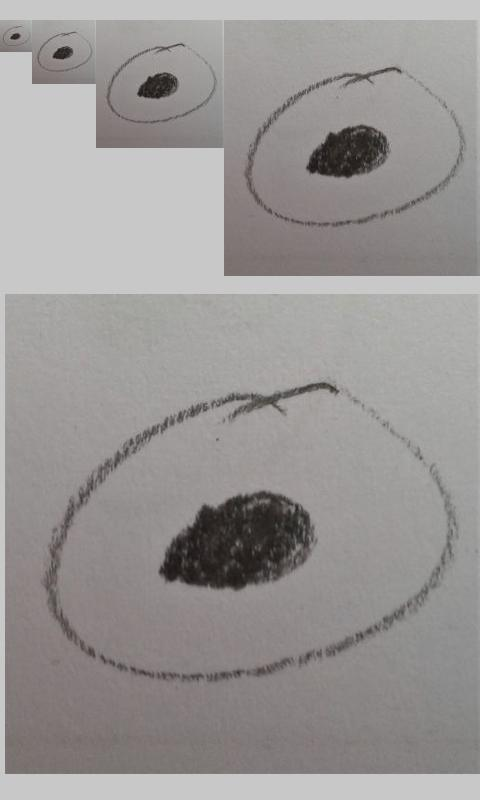radio_button: (41, 379, 458, 687), (244, 66, 466, 228), (106, 42, 218, 124), (36, 31, 94, 73), (2, 25, 31, 47)
